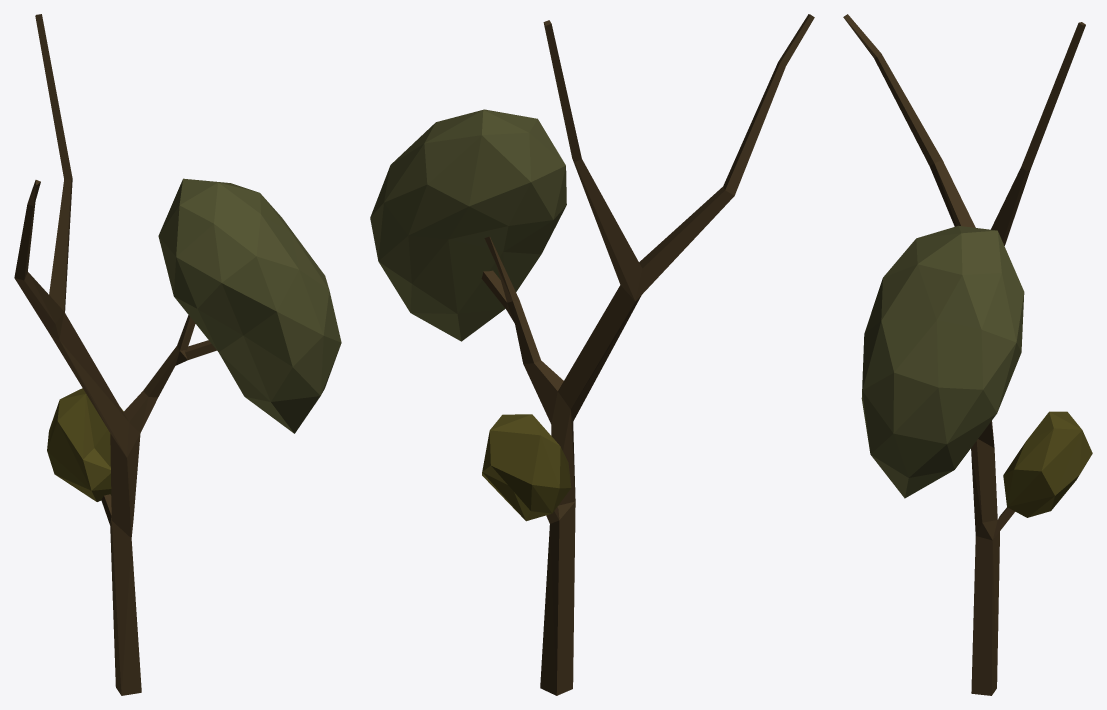
File: Tree.002.fbx
3 renders of one model, left to right at view 1: azimuth 30°, elevation 25°; view 2: azimuth 150°, elevation 25°; view 3: azimuth 270°, elevation 25°, orthographic. The views are drawn at different scales.
Visible parts, largest first — view 1: Tree.002; view 2: Tree.002; view 3: Tree.002.
Part boxes in pixels (x1=…): Tree.002: x1=14, y1=14, x2=341, y2=695; Tree.002: x1=370, y1=14, x2=814, y2=695; Tree.002: x1=843, y1=14, x2=1092, y2=695.
Size of the model in its own units: 568 by 1044 by 364.
